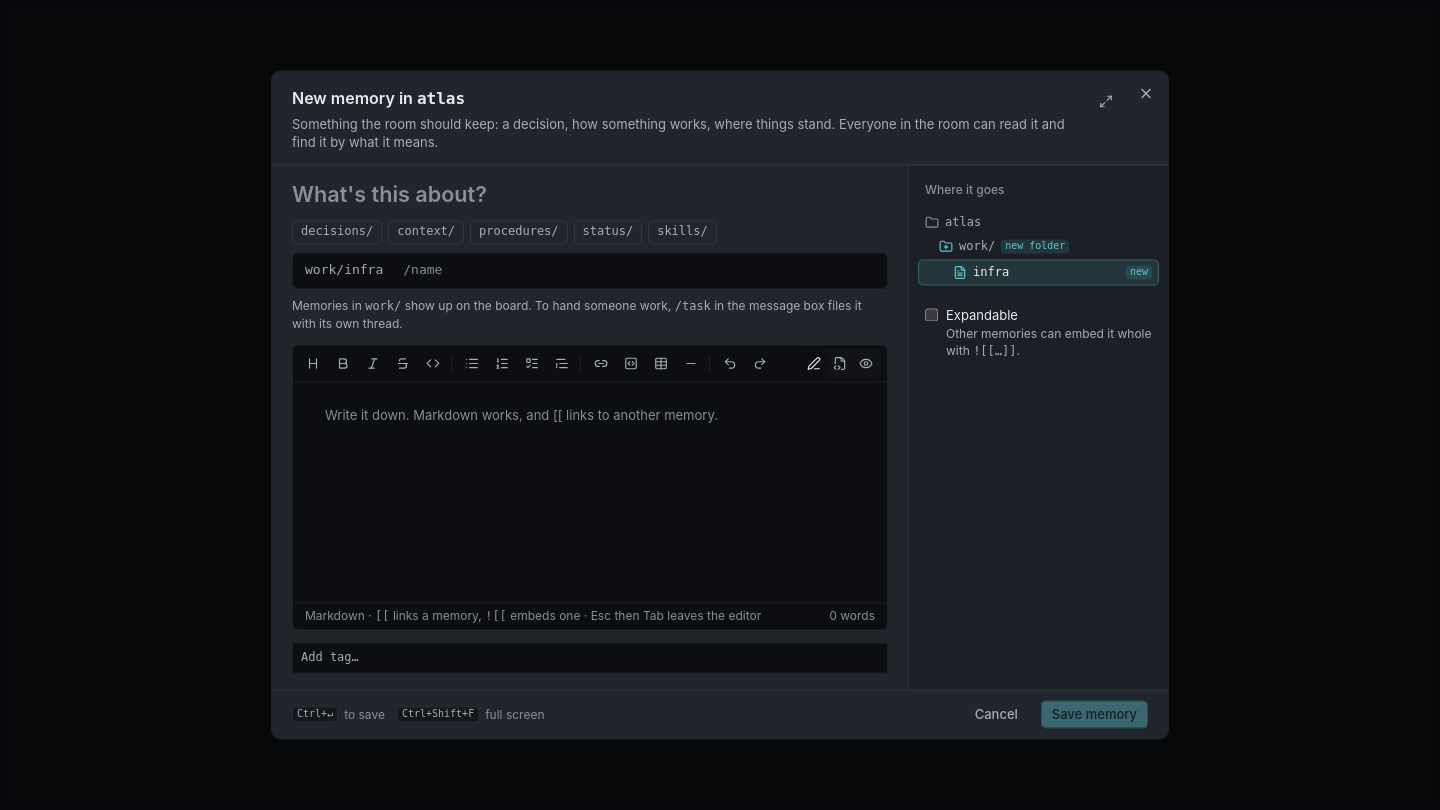
Test case: <NewMemoryDialog /> › marks a folder it would create, and says when a folder files work on the board
In the field named "Title": (590, 195) [292,181,888,208], type "Retry budget"
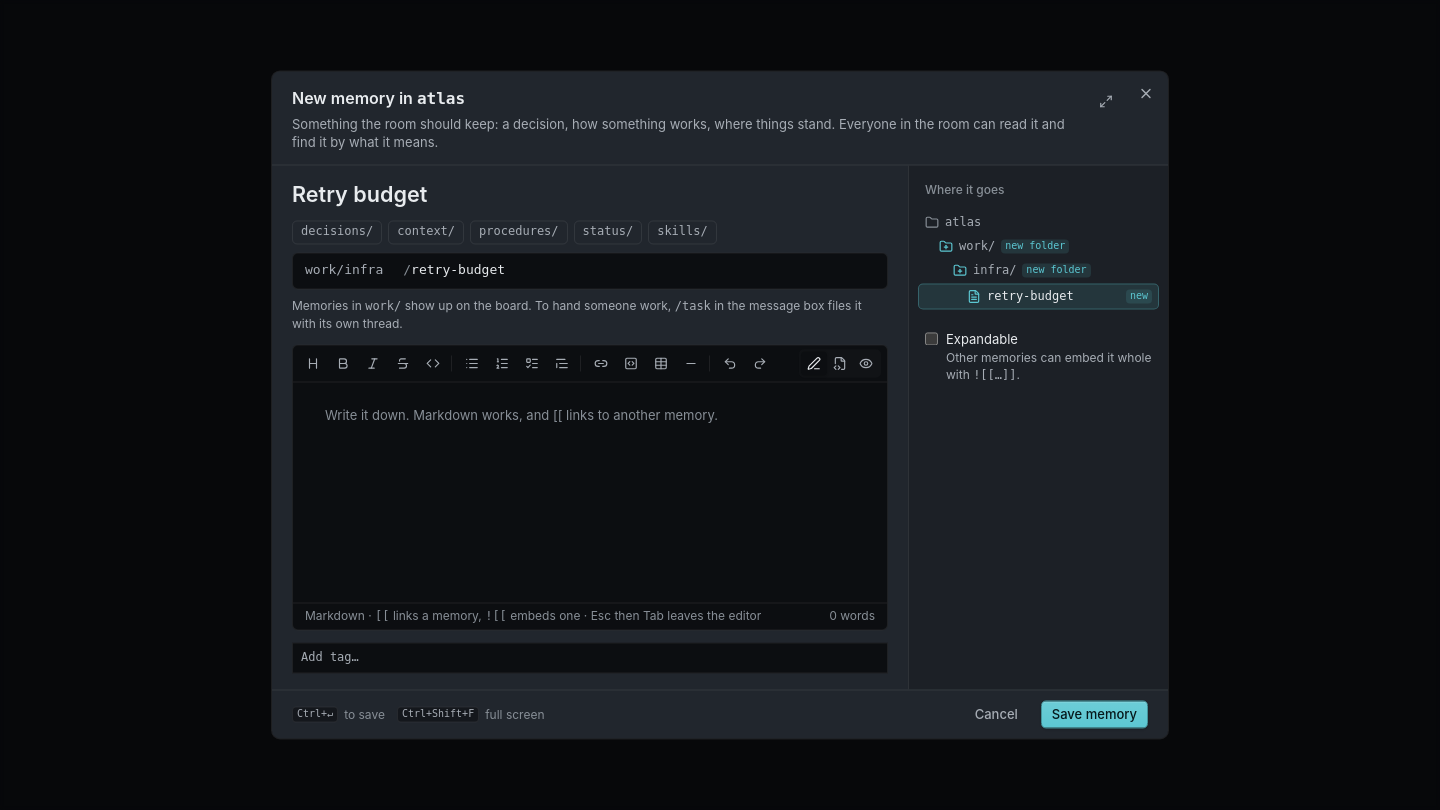
Expected: the text "show up on the board" is shown, [401,298,675,313]
Expected: the text "new folder" is shown 2 times, [1001,239,1069,254]; [1022,263,1091,278]
